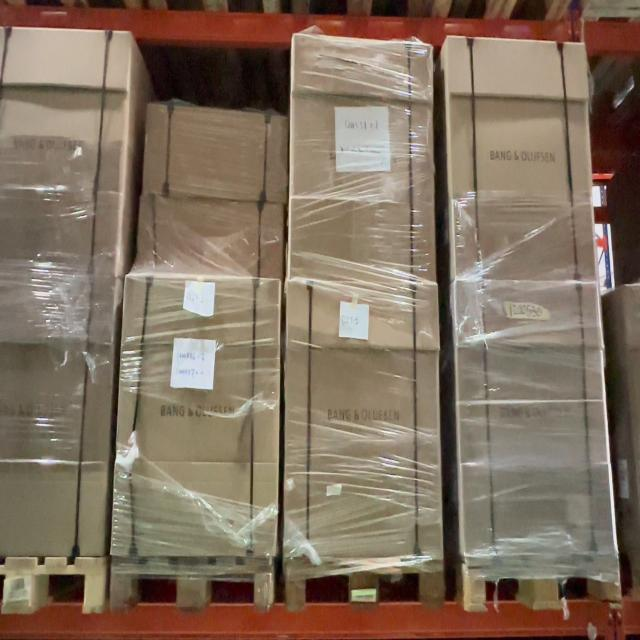box: (120, 275, 278, 552), (286, 281, 440, 548), (459, 281, 611, 551), (291, 38, 435, 279), (451, 38, 590, 278), (1, 266, 113, 556), (0, 32, 133, 266), (136, 101, 290, 204), (138, 194, 284, 278)
